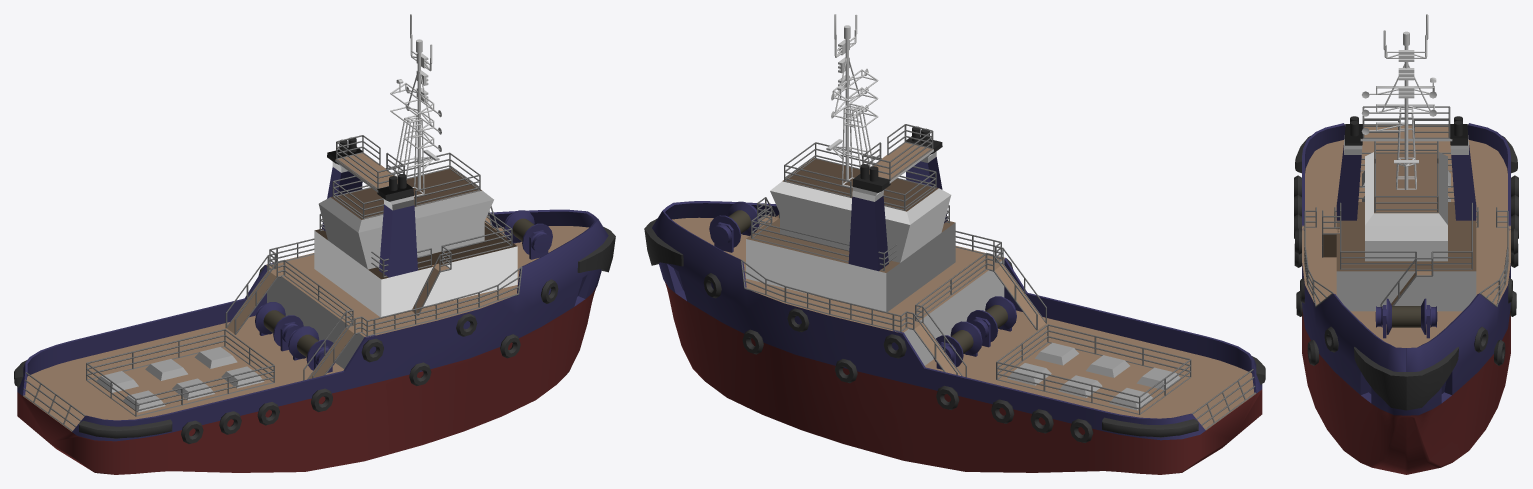
The model's file is TugBoat01.fbx.
The picture shows the model from 3 angles, left to right: view 1: azimuth 30°, elevation 25°; view 2: azimuth 150°, elevation 25°; view 3: azimuth 270°, elevation 25°; orthographic projection. The views are drawn at different scales.
Visible parts, largest first — view 1: Body, Dampers, Cabin; view 2: Body, Dampers, Cabin; view 3: Body, Cabin, Dampers.
Boxes of the visible parts, x1=… form: Body: x1=17, y1=209, x2=608, y2=474; Dampers: x1=14, y1=14, x2=615, y2=443; Cabin: x1=314, y1=147, x2=517, y2=316; Body: x1=652, y1=201, x2=1262, y2=474; Dampers: x1=644, y1=14, x2=1265, y2=442; Cabin: x1=746, y1=136, x2=955, y2=311; Body: x1=1302, y1=123, x2=1510, y2=474; Cabin: x1=1336, y1=124, x2=1476, y2=311; Dampers: x1=1294, y1=14, x2=1518, y2=410.
Bounding box in the file's own units: 457 × 301 × 151.
